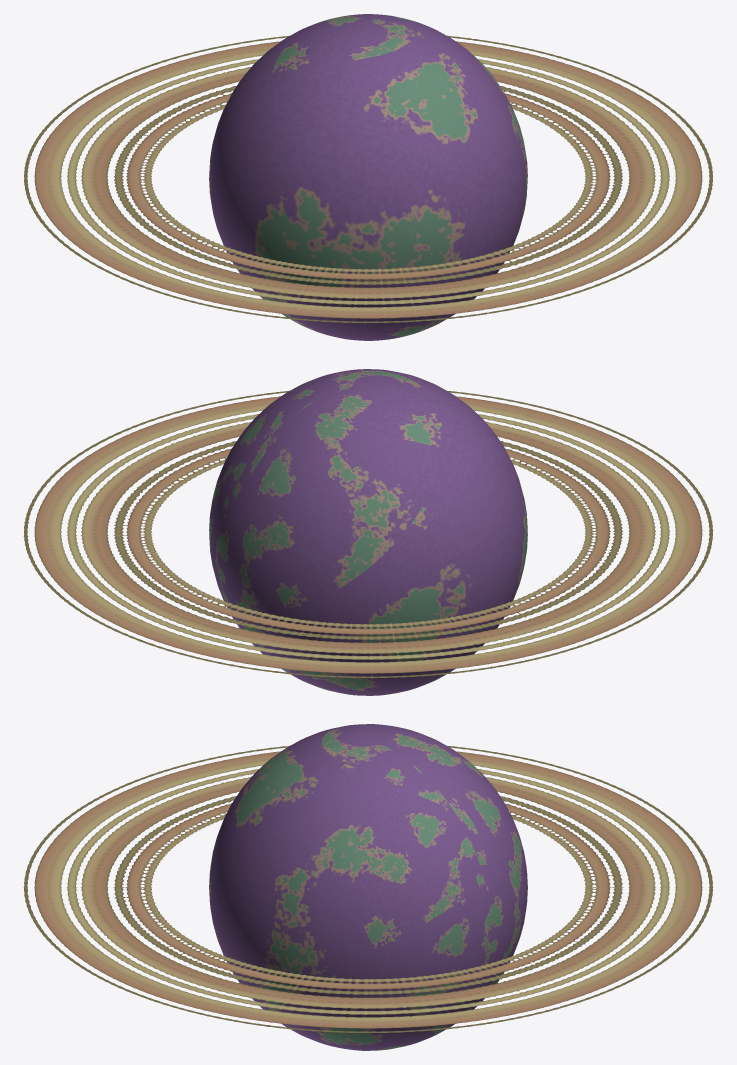
Rendered from ringPlanet.obj.
3 renders of one model, top to bottom at view 1: azimuth 30°, elevation 25°; view 2: azimuth 150°, elevation 25°; view 3: azimuth 270°, elevation 25°, orthographic.
Parts seen in each view (by area): view 1: Planet; view 2: Planet; view 3: Planet.
Boxes of the visible parts, x1,y1,x2,y2 form: Planet: (24,14,712,340); Planet: (23,369,713,695); Planet: (23,724,713,1050).
Size of the model in its own units: 5.42 by 2.52 by 5.42.
Materials: 2 (2 with a texture image).
